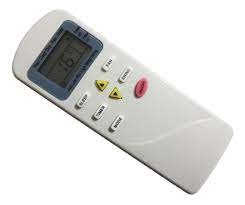remote control: (7, 4, 240, 204)
